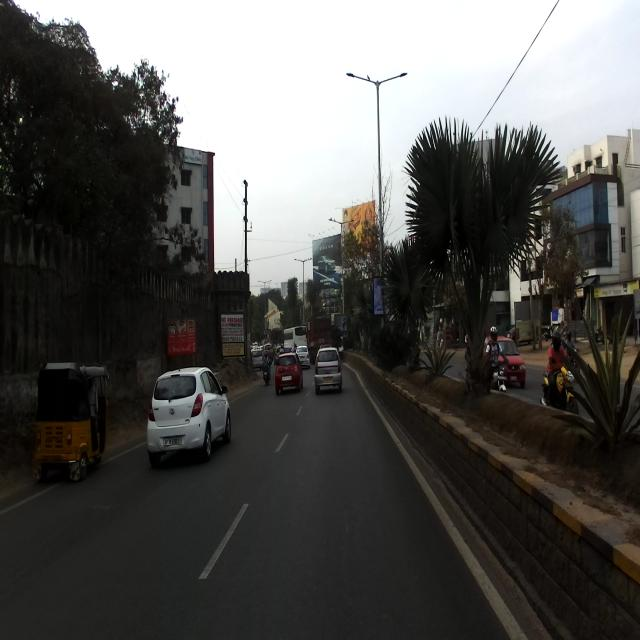auto ahead at: (30, 356, 116, 489)
car ahead at: (146, 368, 233, 464), (311, 344, 344, 396)
